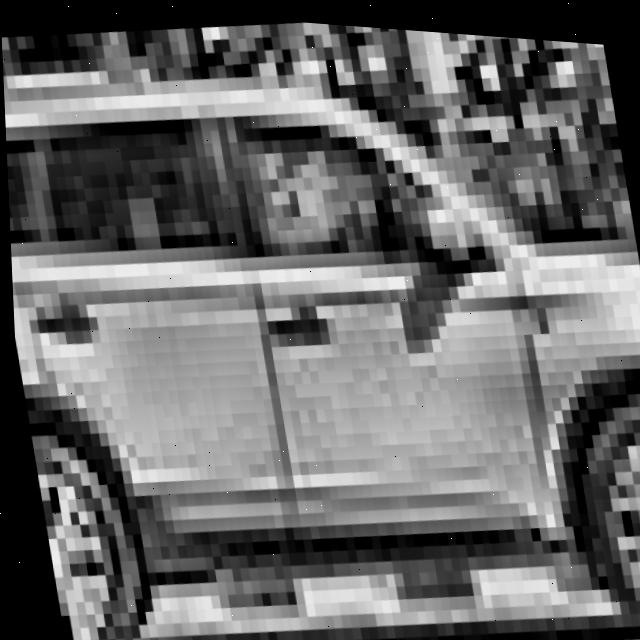light_vehicle: (0, 1, 640, 640)
